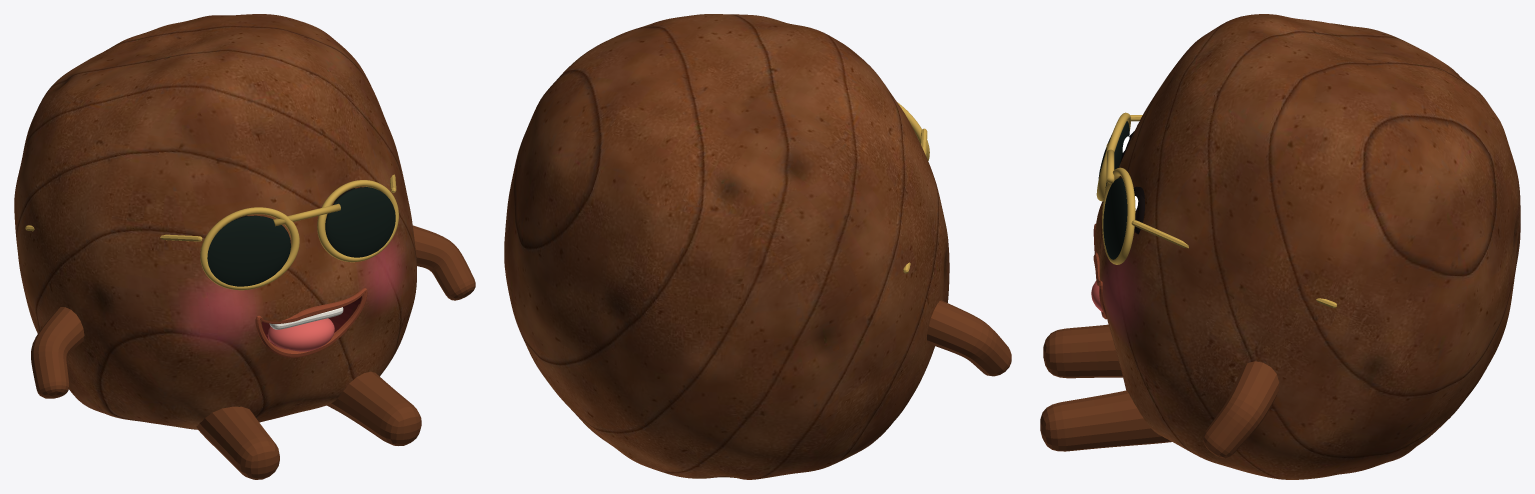
Rendered from potato-grilled.glb.
3 renders of one model, left to right at view 1: azimuth 30°, elevation 25°; view 2: azimuth 150°, elevation 25°; view 3: azimuth 270°, elevation 25°, orthographic. The views are drawn at different scales.
Visible parts, largest first — view 1: Body, Glass_R, Leg_L, Glass_L, Leg_R, Arm_R, Arm_L, Frame_R, Lips, Tongue, Frame_L; view 2: Body, Arm_R; view 3: Body, Leg_L, Arm_L, Leg_R, Glass_L, Frame_L, Frame_R, Temple_L.
Boxes of the visible parts, <box> form: Body: <box>14,14,416,429</box>; Glass_R: <box>207,215,290,286</box>; Leg_L: <box>327,371,421,445</box>; Glass_L: <box>325,187,395,257</box>; Leg_R: <box>196,406,279,479</box>; Arm_R: <box>31,307,84,398</box>; Arm_L: <box>412,225,475,300</box>; Frame_R: <box>200,207,299,290</box>; Lips: <box>255,288,367,357</box>; Tongue: <box>267,318,334,351</box>; Frame_L: <box>317,180,398,262</box>; Body: <box>504,14,949,479</box>; Arm_R: <box>927,300,1011,376</box>; Body: <box>1095,14,1520,479</box>; Leg_L: <box>1040,390,1171,451</box>; Arm_L: <box>1202,361,1279,458</box>; Leg_R: <box>1043,324,1122,378</box>; Glass_L: <box>1103,178,1127,259</box>; Frame_L: <box>1102,167,1135,264</box>; Frame_R: <box>1096,112,1131,201</box>; Temple_L: <box>1131,220,1336,307</box>.
Bounding box in the file's own units: 1.57 × 1.29 × 1.39.
Materials: 9 (1 with a texture image).
